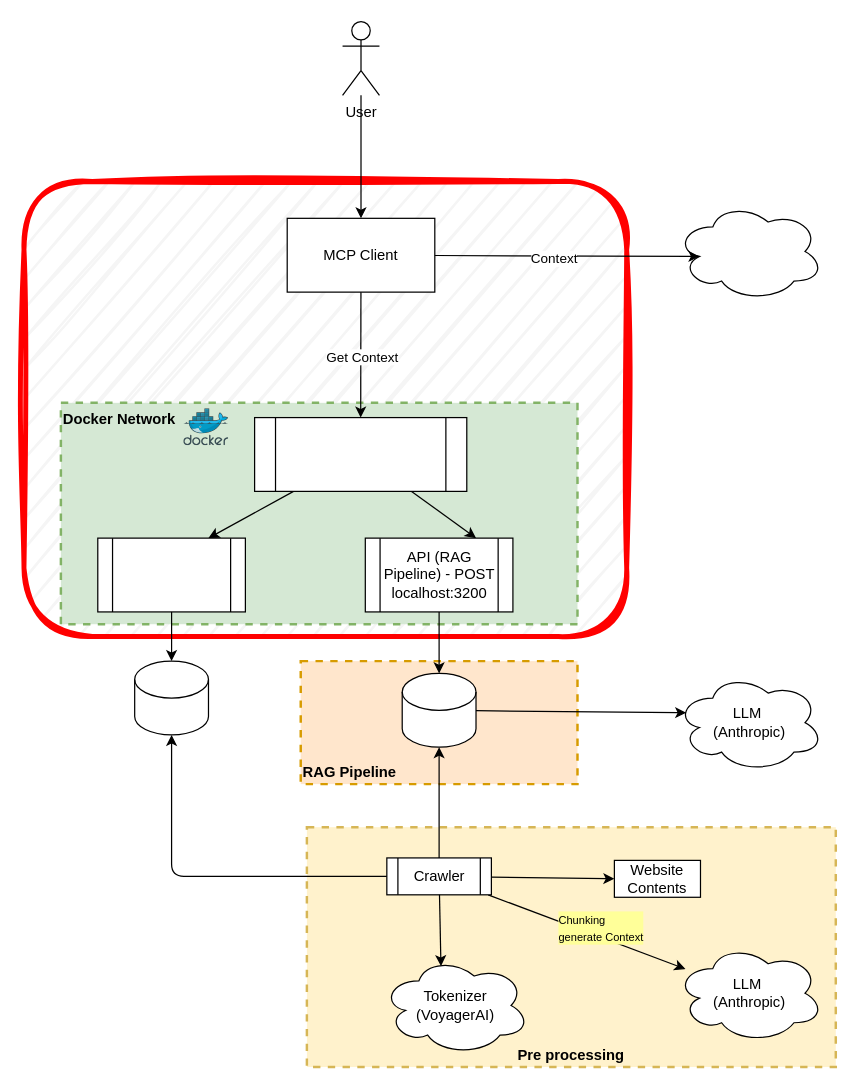
Some shapes in this 857 by 1090 pixel diagram are drawn without their labels. Each missing label, with the centre of its shape:
"API (school list) - get localhost:3100" goes at pixel 171 574.
"data store (List of urls)" goes at pixel 170 697.
"LLM (OpenAI)" goes at pixel 749 251.
"MCP Server SSE tools: school list and school rag localhost:3501" goes at pixel 360 453.
"Vector Database" goes at pixel 438 709.
